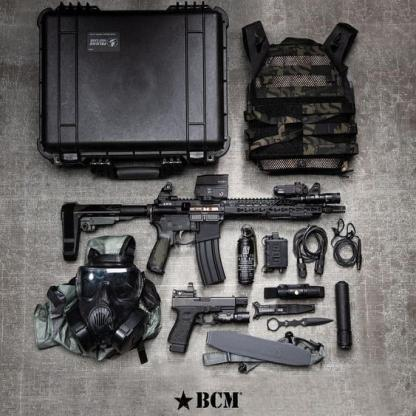Grenade: (236, 222, 259, 286)
Gun: (61, 172, 347, 287)
Knife: (265, 317, 334, 333)
Pistol: (166, 281, 253, 354)
